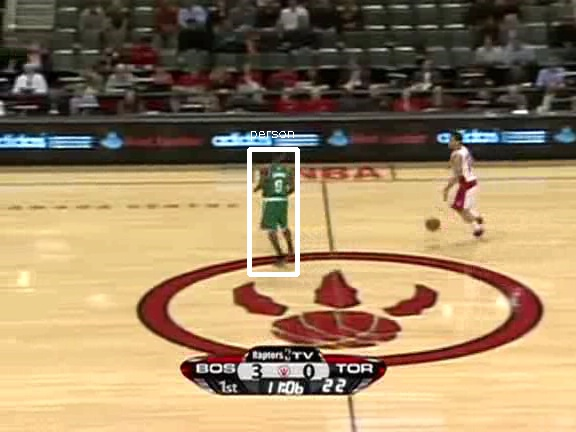person: (260, 157, 294, 238), (259, 157, 293, 238), (261, 157, 295, 238), (260, 156, 294, 237), (260, 158, 294, 239)
target_negative: (170, 103, 383, 350), (196, 216, 350, 329), (398, 307, 540, 408), (319, 83, 503, 156), (540, 19, 547, 278), (475, 149, 517, 154)
